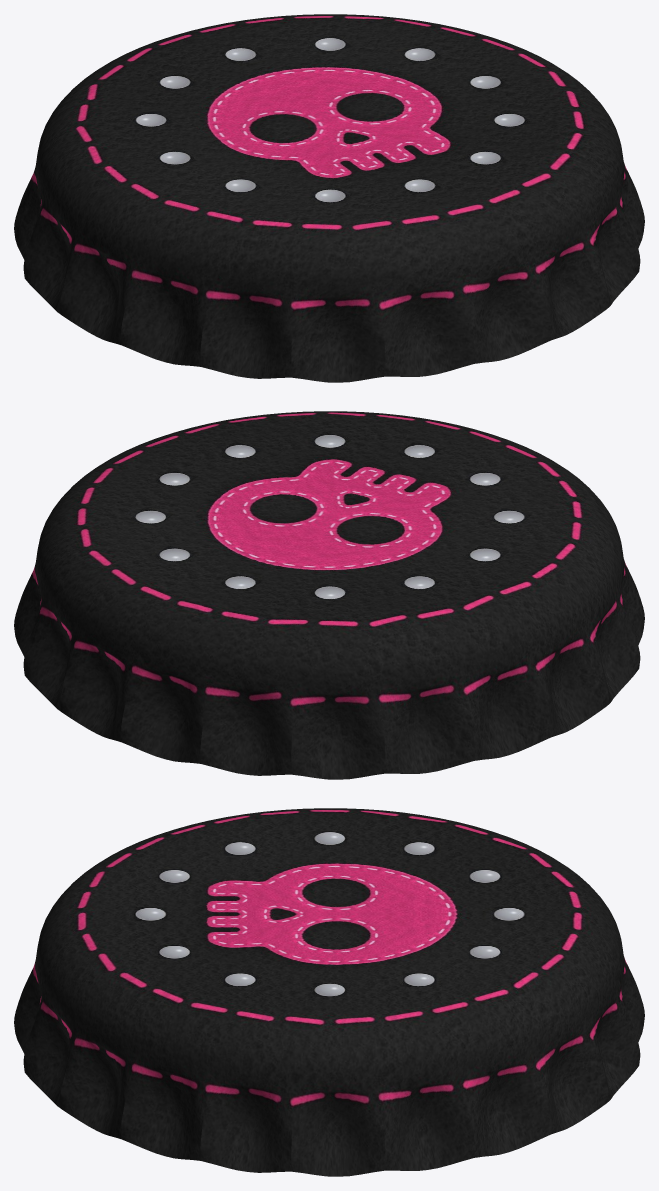
File: czaszka_cwieki.glb
3 views of the same model, one above another, from view 1: azimuth 30°, elevation 25°; view 2: azimuth 150°, elevation 25°; view 3: azimuth 270°, elevation 25° (orthographic).
Parts seen in each view (by area): view 1: Kapsel_LOD0_czaszka_cwieki; view 2: Kapsel_LOD0_czaszka_cwieki; view 3: Kapsel_LOD0_czaszka_cwieki.
Boxes of the visible parts, box(x1,y1,x2,y2) form: Kapsel_LOD0_czaszka_cwieki: box(14, 14, 644, 382); Kapsel_LOD0_czaszka_cwieki: box(14, 411, 644, 779); Kapsel_LOD0_czaszka_cwieki: box(14, 808, 644, 1176).
Size of the model in its own units: 29.9 by 7 by 29.92.
2 materials, 2 textured.
